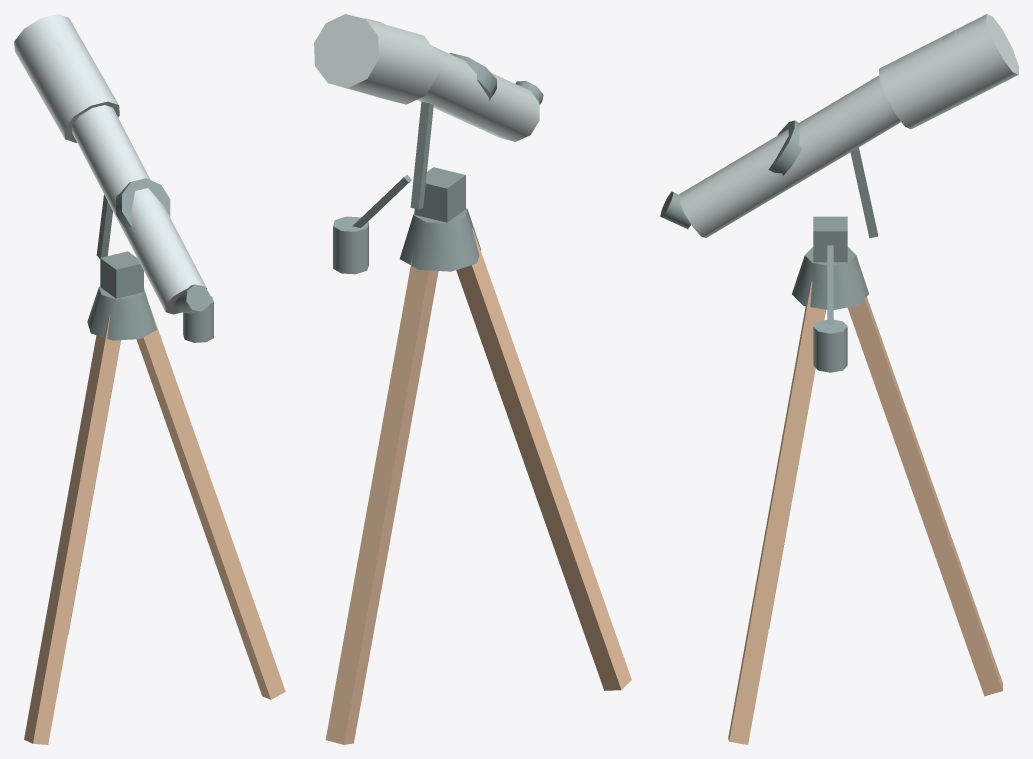
File: telescopeBrass.glb
The picture shows the model from 3 angles, left to right: view 1: azimuth 30°, elevation 25°; view 2: azimuth 150°, elevation 25°; view 3: azimuth 270°, elevation 25°; orthographic projection. The views are drawn at different scales.
Parts seen in each view (by area): view 1: telescopeBrass; view 2: telescopeBrass; view 3: telescopeBrass.
Boxes of the visible parts, x1,y1,x2,y2 form: telescopeBrass: (14,14,285,744); telescopeBrass: (314,14,631,744); telescopeBrass: (660,14,1018,744).
Size of the model in its own units: 0.3498 by 0.858 by 0.4164.
